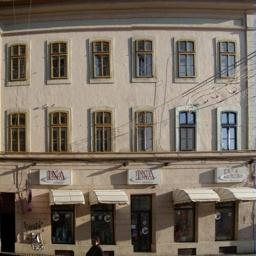building: (1, 0, 256, 236)
